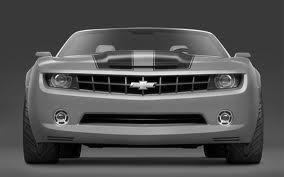car: (21, 26, 269, 171)
